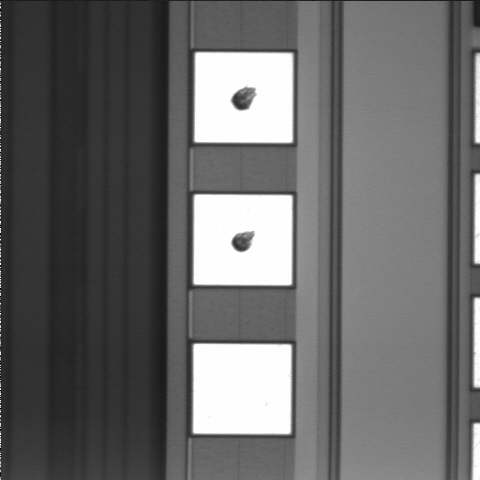pad: (195, 52, 293, 143), (194, 195, 292, 285), (193, 344, 291, 434)
